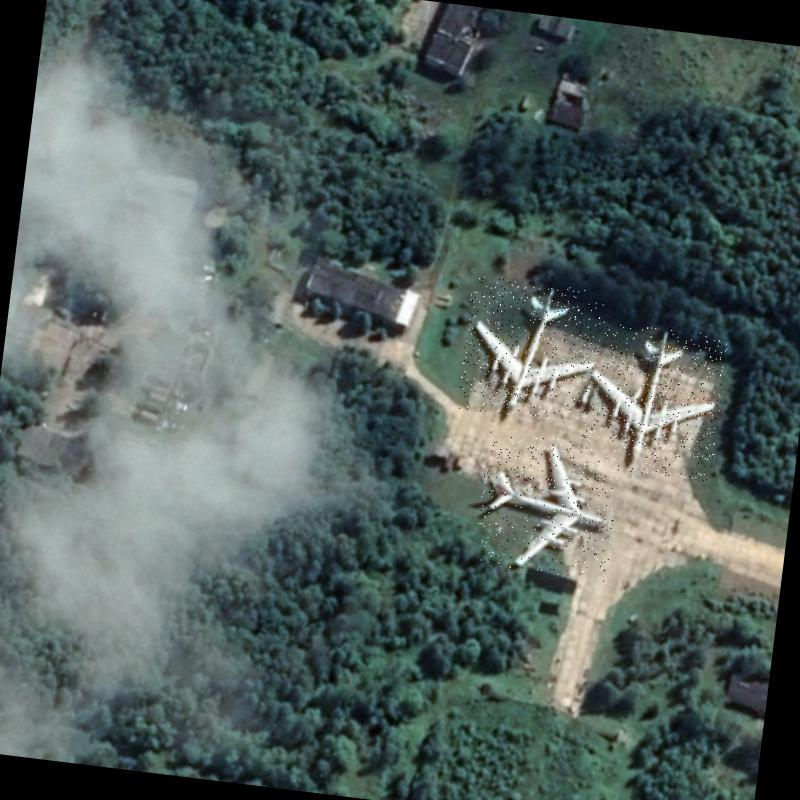A17: (574, 318, 728, 481), (472, 430, 623, 582), (456, 275, 604, 424)
